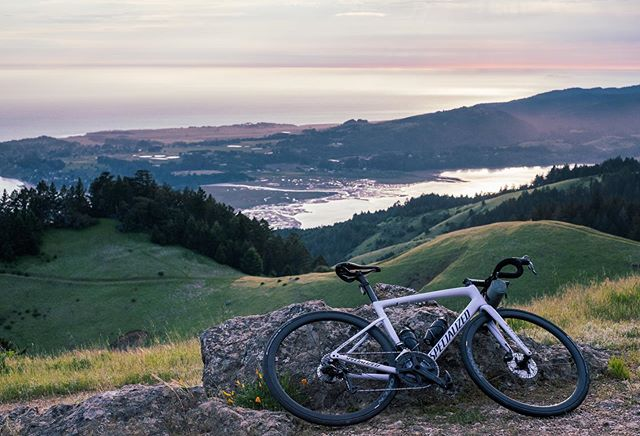bicicle: (261, 256, 596, 408)
mountain: (15, 75, 633, 190)
sky: (1, 1, 640, 116)
vegetation: (316, 158, 640, 261), (3, 175, 302, 278)
